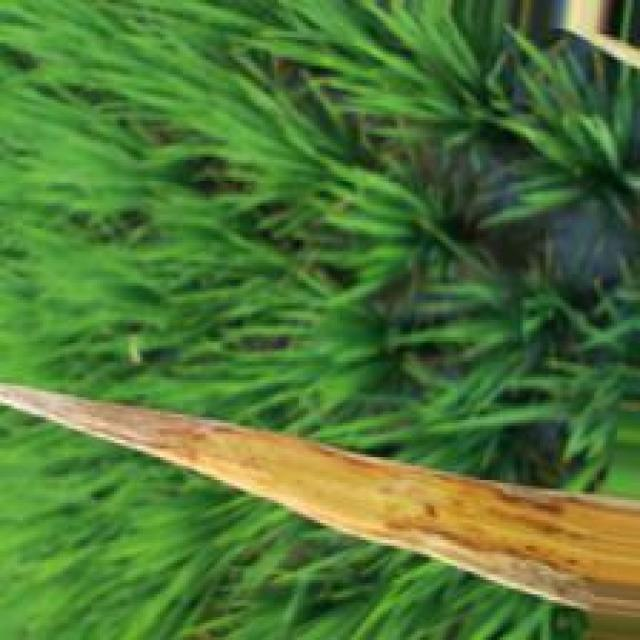Bacterial_Leaf_Blight: (3, 385, 570, 610)
